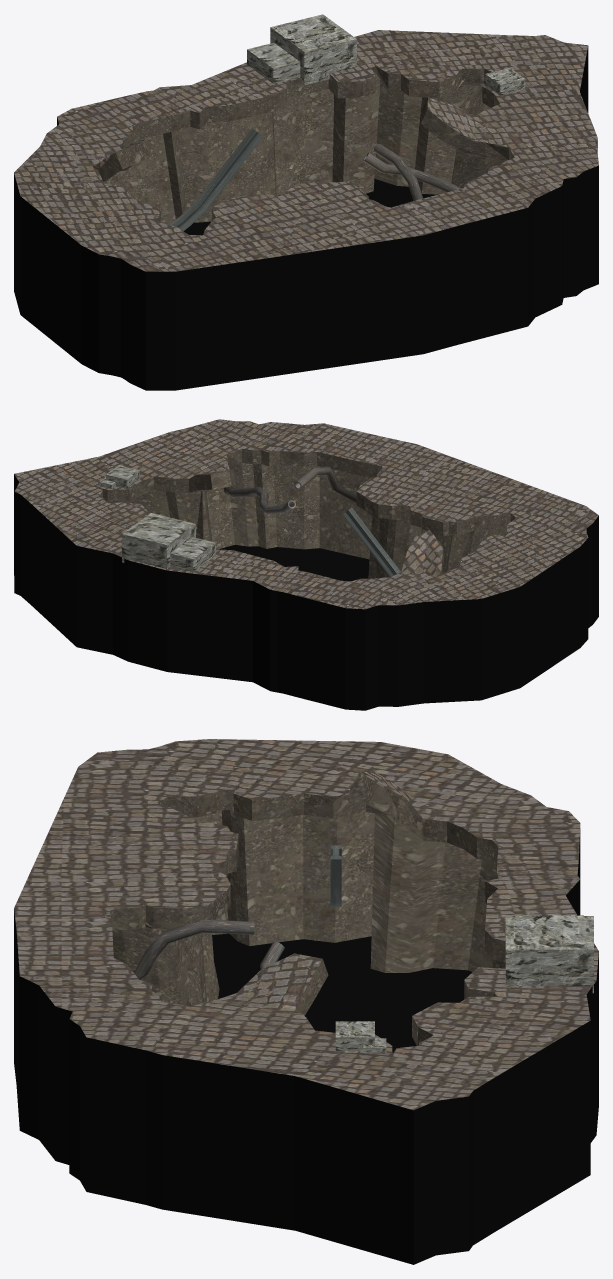
The model's file is ass_hole (1).FBX.
The picture shows the model from 3 angles, top to bottom: view 1: azimuth 30°, elevation 25°; view 2: azimuth 150°, elevation 25°; view 3: azimuth 270°, elevation 25°; orthographic projection. The views are drawn at different scales.
Parts seen in each view (by area): view 1: Line001, Box003, Box001, Box002, Tube002, Box004, Tube001; view 2: Line001, Box003, Box002, Box001, Tube002, Tube001, Box004; view 3: Line001, Box003, Tube001, Box004, Box001.
Boxes of the visible parts, x1=… form: Line001: x1=14, y1=30, x2=598, y2=390; Box003: x1=270, y1=14, x2=356, y2=85; Box001: x1=169, y1=128, x2=262, y2=231; Box002: x1=247, y1=43, x2=300, y2=83; Tube002: x1=363, y1=152, x2=461, y2=192; Box004: x1=485, y1=68, x2=525, y2=95; Tube001: x1=374, y1=144, x2=422, y2=200; Line001: x1=14, y1=419, x2=598, y2=710; Box003: x1=122, y1=513, x2=195, y2=568; Box002: x1=170, y1=537, x2=215, y2=571; Box001: x1=343, y1=507, x2=400, y2=576; Tube002: x1=223, y1=486, x2=295, y2=513; Tube001: x1=294, y1=466, x2=356, y2=502; Box004: x1=106, y1=465, x2=139, y2=488; Line001: x1=14, y1=739, x2=598, y2=1264; Box003: x1=505, y1=916, x2=593, y2=993; Tube001: x1=133, y1=919, x2=254, y2=979; Box004: x1=335, y1=1021, x2=374, y2=1051; Box001: x1=330, y1=845, x2=341, y2=906.
Bounding box in the file's own units: 151 × 38.75 × 101.
6 materials, 5 textured.
